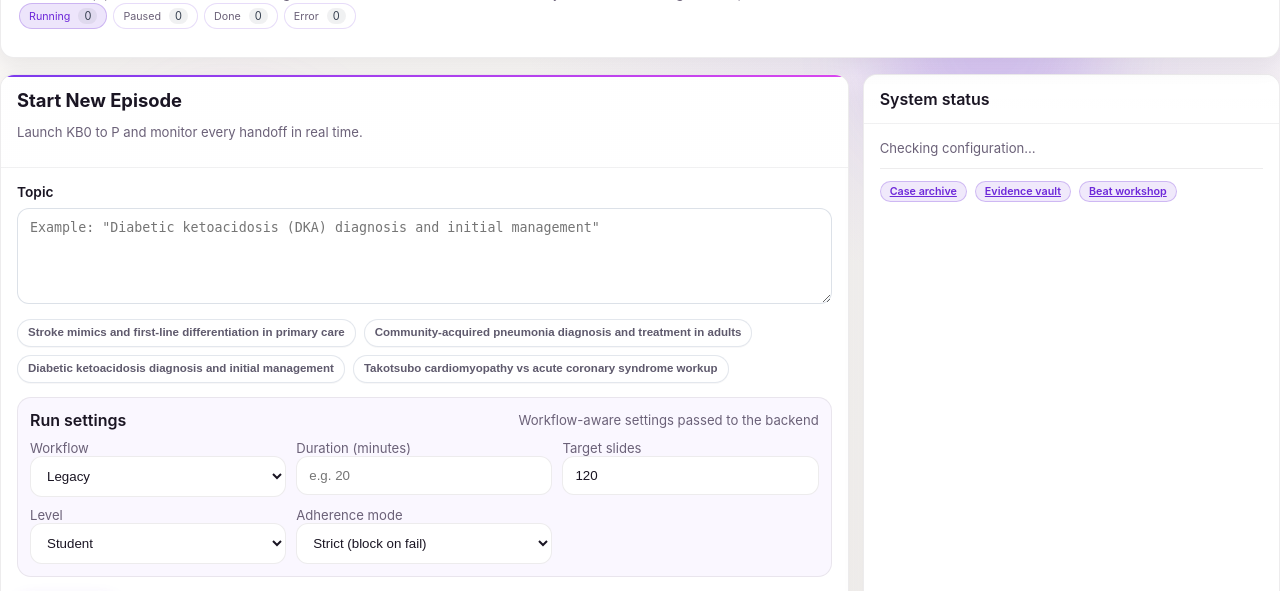
it: ChatStart › shows an error when createRun fails (non-Error throw)
In the text box with placeholder "Example:": coordinates (424, 256) [17, 208, 832, 304], type "DKA management"
(page scrolled)
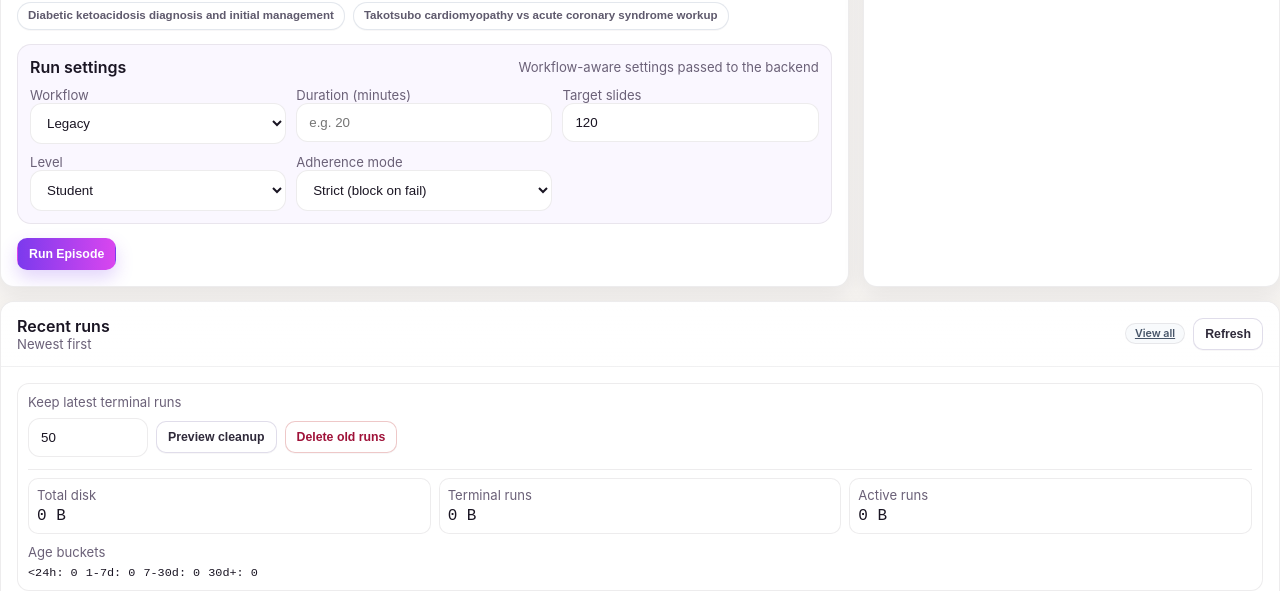
Click the button "Run Episode": coordinates (67, 254) [17, 238, 116, 270]
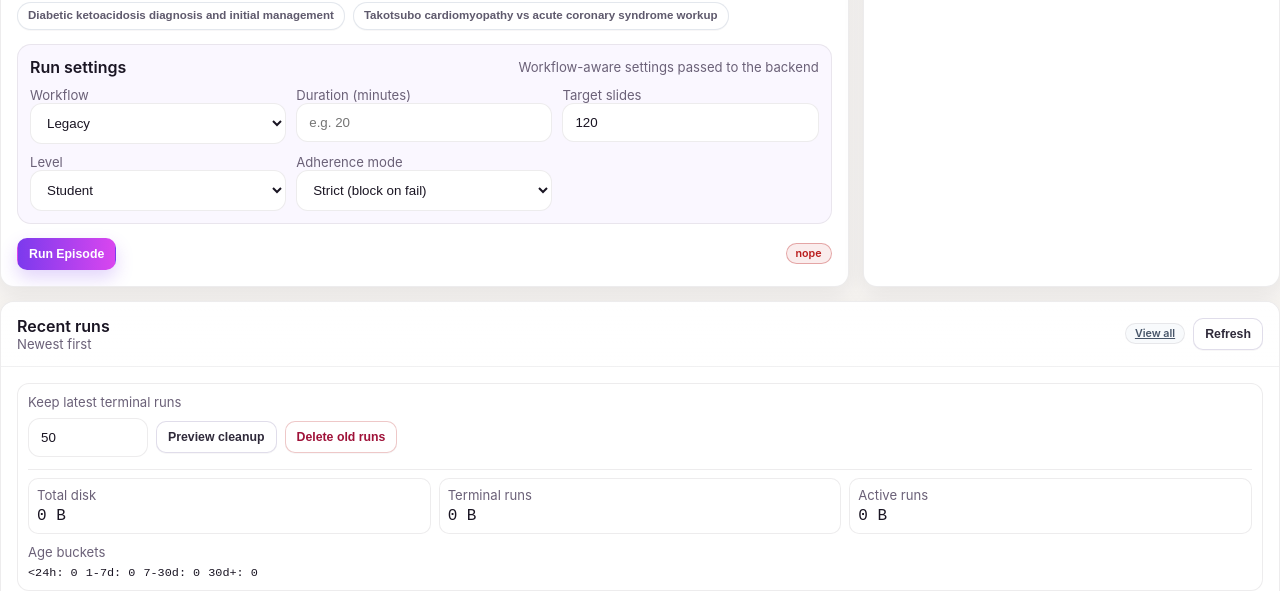
Check: the text "nope" is shown, box [786, 243, 832, 264]
